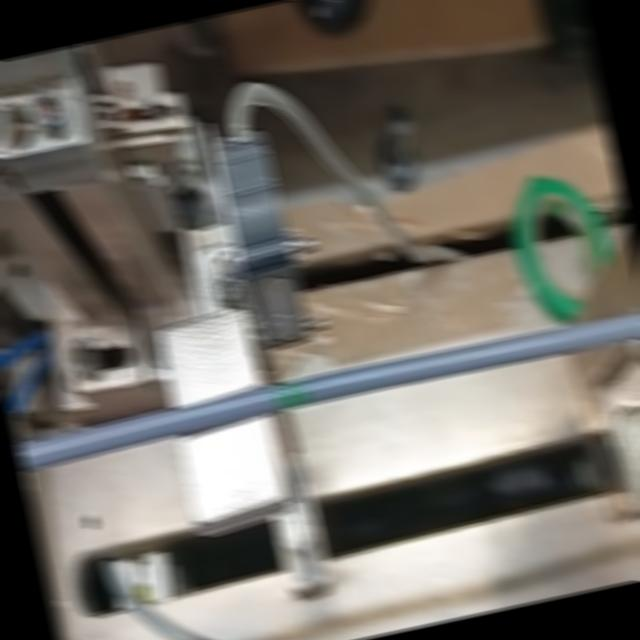green: (270, 376, 311, 411)
